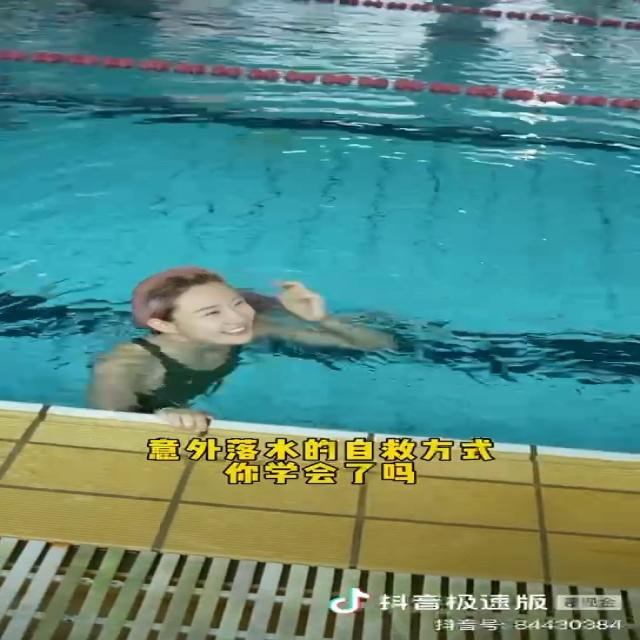Swimming: (80, 268, 402, 432)
